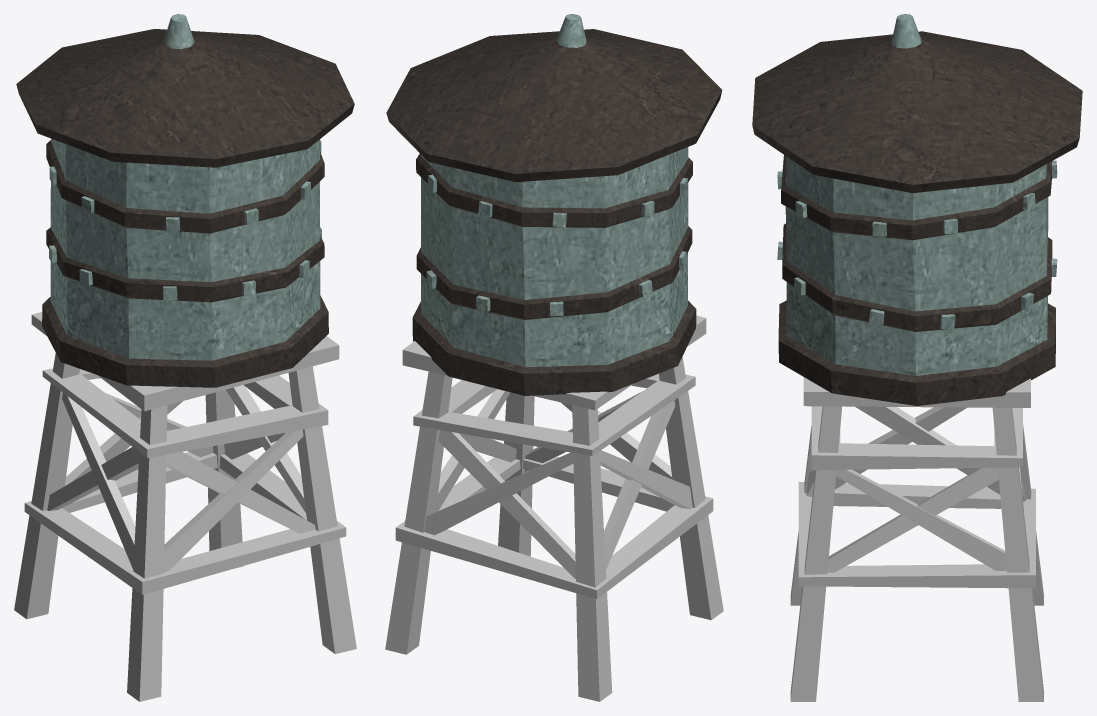
The model's file is WaterTower.fbx.
3 views of the same model, side by side, from view 1: azimuth 30°, elevation 25°; view 2: azimuth 150°, elevation 25°; view 3: azimuth 270°, elevation 25° (orthographic). The views are drawn at different scales.
Visible parts, largest first — view 1: geo_WaterTower; view 2: geo_WaterTower; view 3: geo_WaterTower.
Boxes of the visible parts, left/top/right/bottom form: geo_WaterTower: left=14, top=14, right=356, bottom=701; geo_WaterTower: left=385, top=14, right=723, bottom=701; geo_WaterTower: left=752, top=14, right=1082, bottom=701.
Bounding box in the file's own units: 2.51 × 5.04 × 2.41.
